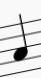note: (10, 10, 30, 75)
